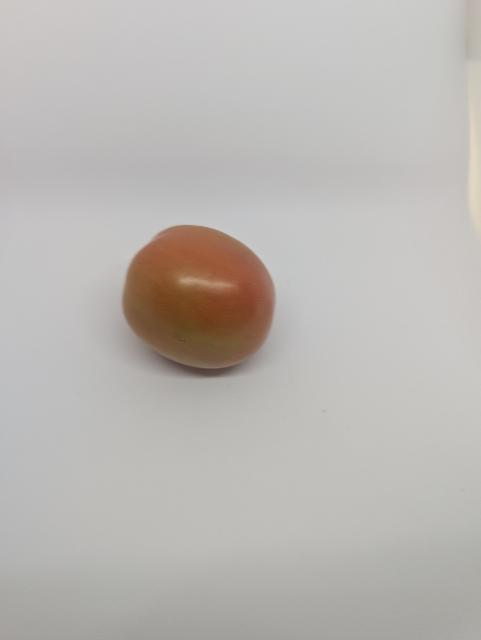turning: (118, 218, 285, 376)
